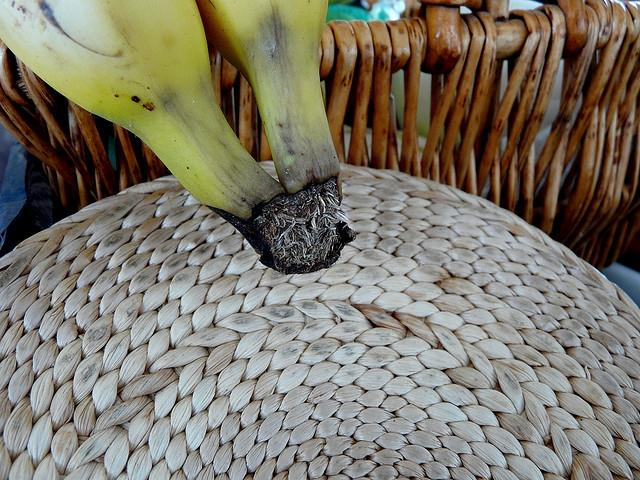banana: (196, 0, 358, 266)
